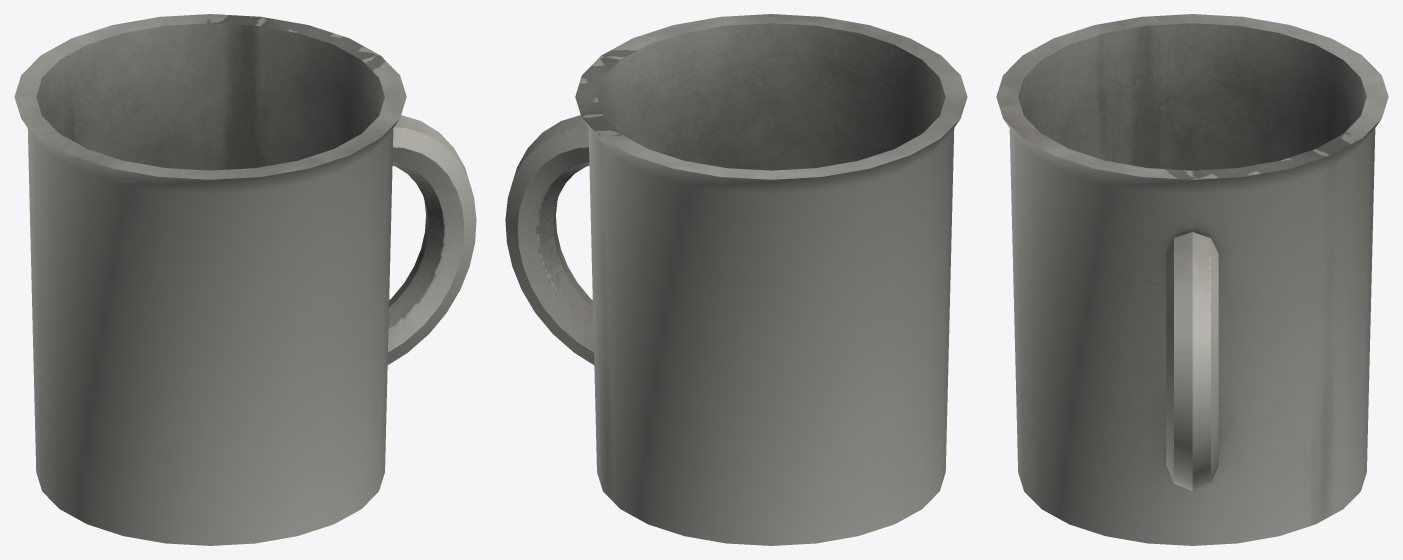
File: SM_Mug_Enamel.fbx
3 views of the same model, side by side, from view 1: azimuth 30°, elevation 25°; view 2: azimuth 150°, elevation 25°; view 3: azimuth 270°, elevation 25° (orthographic).
Parts seen in each view (by area): view 1: SM_Mug_Enamel; view 2: SM_Mug_Enamel; view 3: SM_Mug_Enamel.
Boxes of the visible parts, x1,y1,x2,y2 form: SM_Mug_Enamel: [14, 14, 476, 545]; SM_Mug_Enamel: [505, 14, 967, 545]; SM_Mug_Enamel: [996, 14, 1388, 545].
Bounding box in the file's own units: 0.1147 × 0.095 × 0.09.
1 material, 1 textured.
